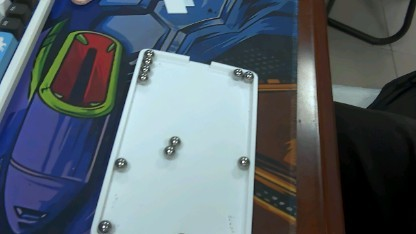ironball: (239, 65, 257, 83), (165, 132, 184, 149), (160, 144, 177, 160), (237, 152, 250, 171), (112, 155, 127, 170), (96, 217, 111, 232), (139, 45, 156, 57), (135, 73, 150, 86), (230, 65, 241, 80), (140, 56, 154, 66), (138, 62, 149, 72)
